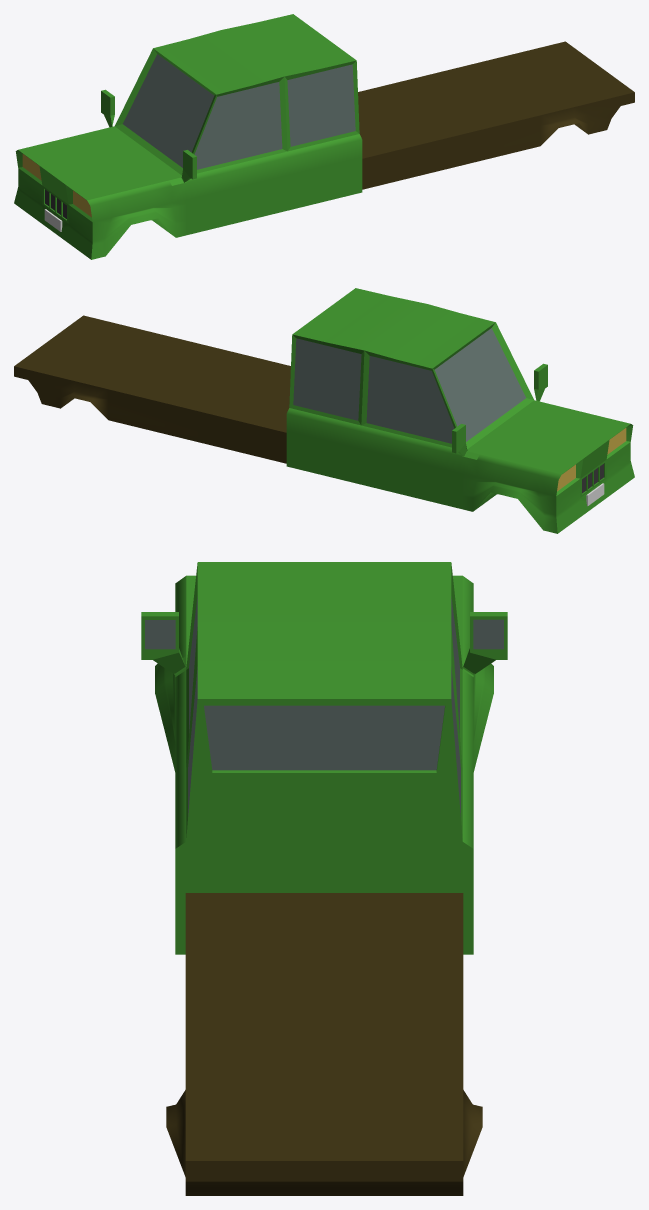
The model's file is Truck.fbx.
3 views of the same model, one above another, from view 1: azimuth 30°, elevation 25°; view 2: azimuth 150°, elevation 25°; view 3: azimuth 270°, elevation 25° (orthographic). The views are drawn at different scales.
Parts seen in each view (by area): view 1: pasted__polySurface10; view 2: pasted__polySurface10; view 3: pasted__polySurface10.
Part boxes in pixels (left/top/right/bottom): pasted__polySurface10: left=14, top=14, right=634, bottom=259; pasted__polySurface10: left=14, top=288, right=634, bottom=533; pasted__polySurface10: left=141, top=562, right=507, bottom=1195.
Size of the model in its own units: 42.32 by 9.56 by 12.25.
